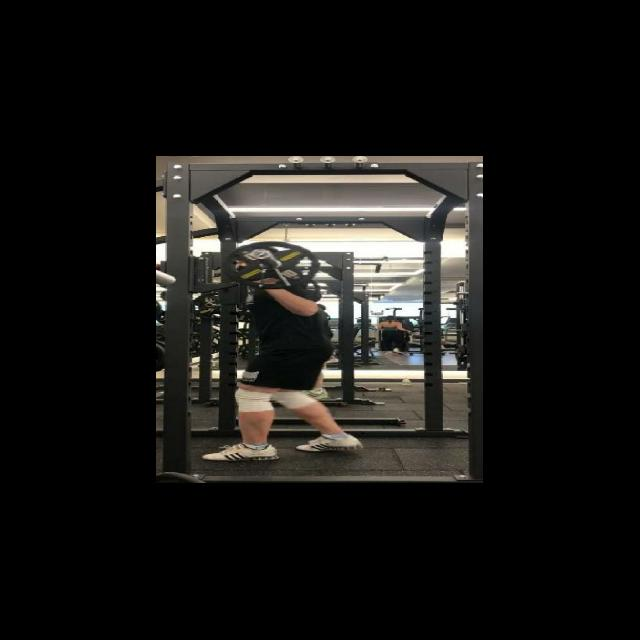barbell: (216, 237, 325, 294)
